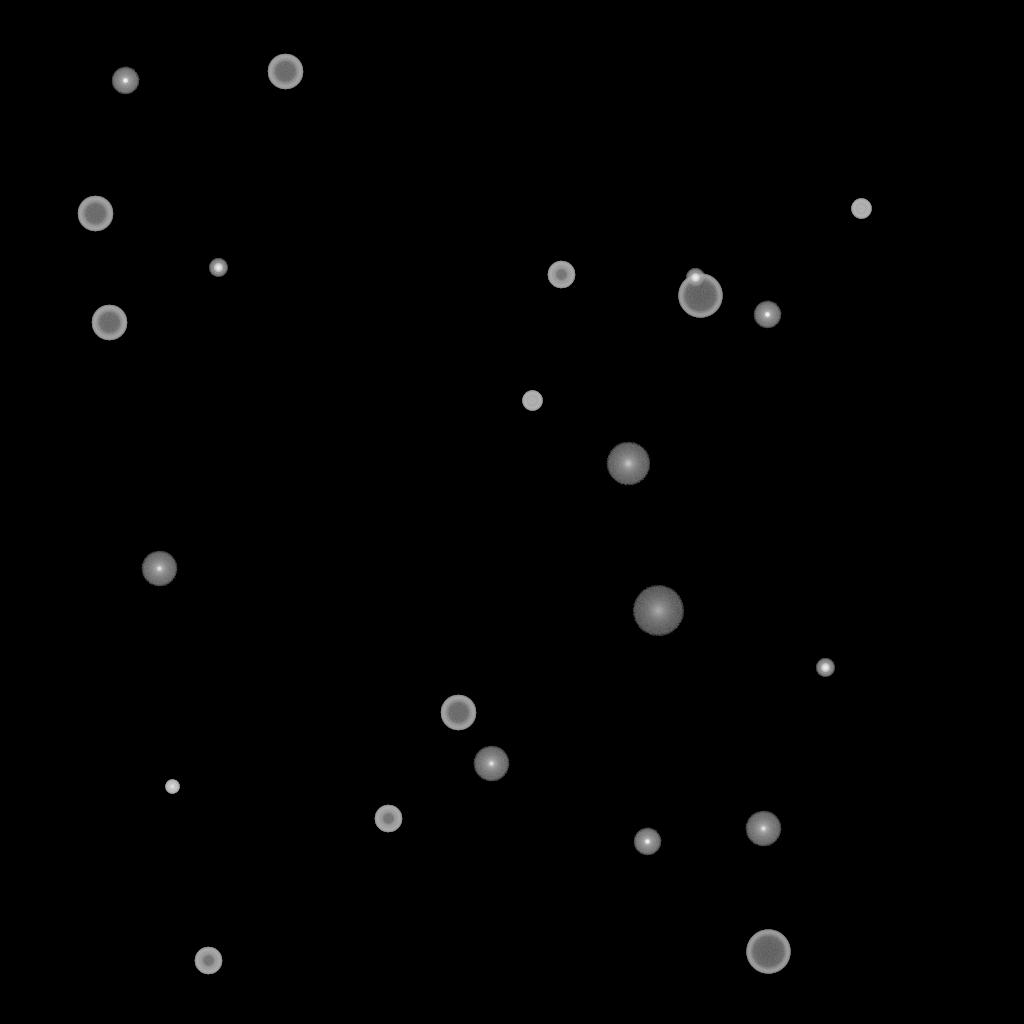depth:-10: (111, 67, 139, 95), (633, 828, 661, 856), (753, 301, 781, 329)
depth:-20: (686, 269, 704, 287), (209, 259, 227, 277), (816, 659, 834, 677)
depth:-30: (165, 780, 179, 794)
depth:-40: (851, 199, 871, 219), (522, 391, 542, 411)
depth:-50: (194, 947, 222, 975), (547, 261, 575, 289), (374, 805, 402, 833)
depth:-60: (77, 196, 113, 232), (267, 54, 303, 90), (91, 305, 127, 341), (440, 695, 476, 731)
depth:-70: (746, 930, 790, 974), (678, 274, 722, 318)
depth:0: (473, 746, 509, 782), (745, 811, 781, 847), (141, 551, 177, 587)
depth:10: (606, 442, 650, 486)
depth:20: (632, 586, 684, 636)
